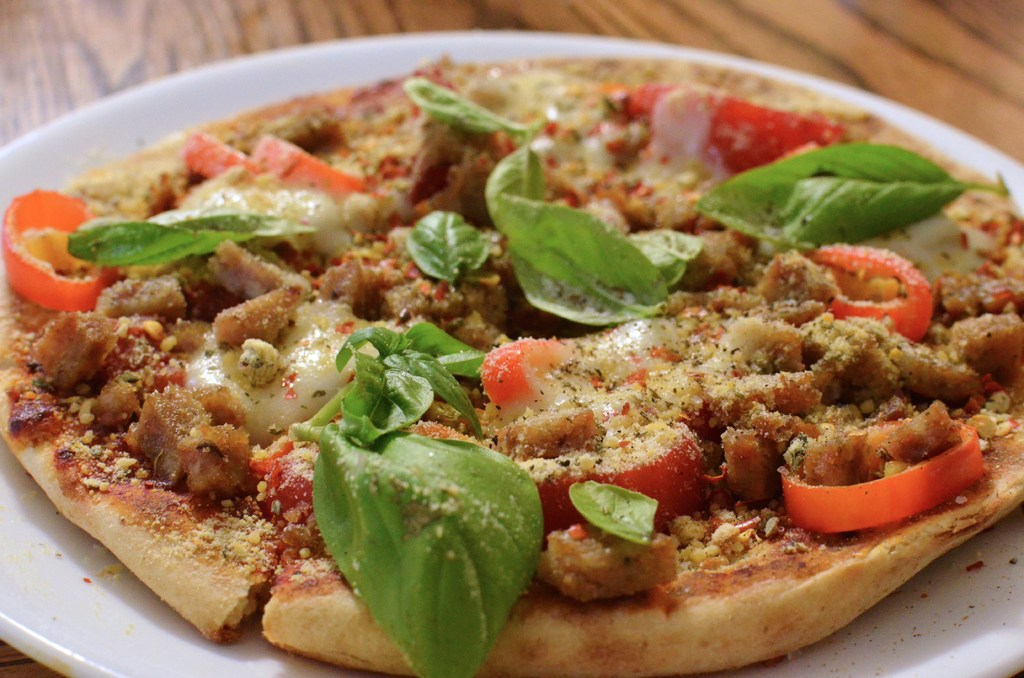Pizza: (0, 56, 1024, 670)
